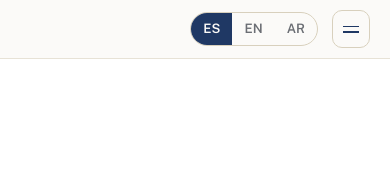
Header › closes the mobile menu when a nav item is clicked
Click the button named "menu": (351, 29) [332,10,370,48]
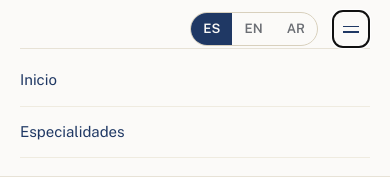
Click the link "Inicio": (38, 80) [20,55,370,106]
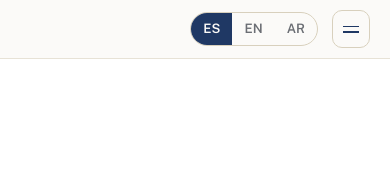
Check: the button named "menu" is collapsed, box [332,10,370,48]
